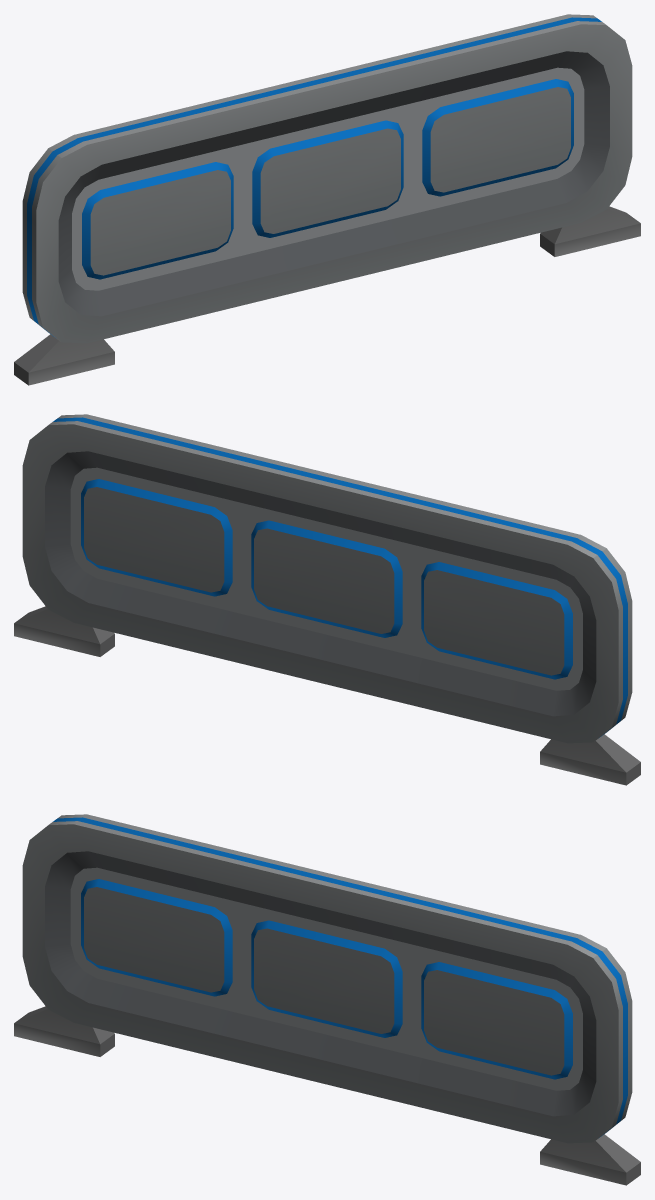
Rendered from Fence_type_C_005.fbx.
3 renders of one model, top to bottom at view 1: azimuth 30°, elevation 25°; view 2: azimuth 150°, elevation 25°; view 3: azimuth 330°, elevation 25°, orthographic.
Visible parts, largest first — view 1: Fence_type_C_005; view 2: Fence_type_C_005; view 3: Fence_type_C_005.
Part boxes in pixels (bbox=[...]): Fence_type_C_005: bbox=[14, 14, 640, 385]; Fence_type_C_005: bbox=[14, 414, 640, 785]; Fence_type_C_005: bbox=[14, 814, 640, 1185].
Size of the model in its own units: 401 by 16.53 by 141.
